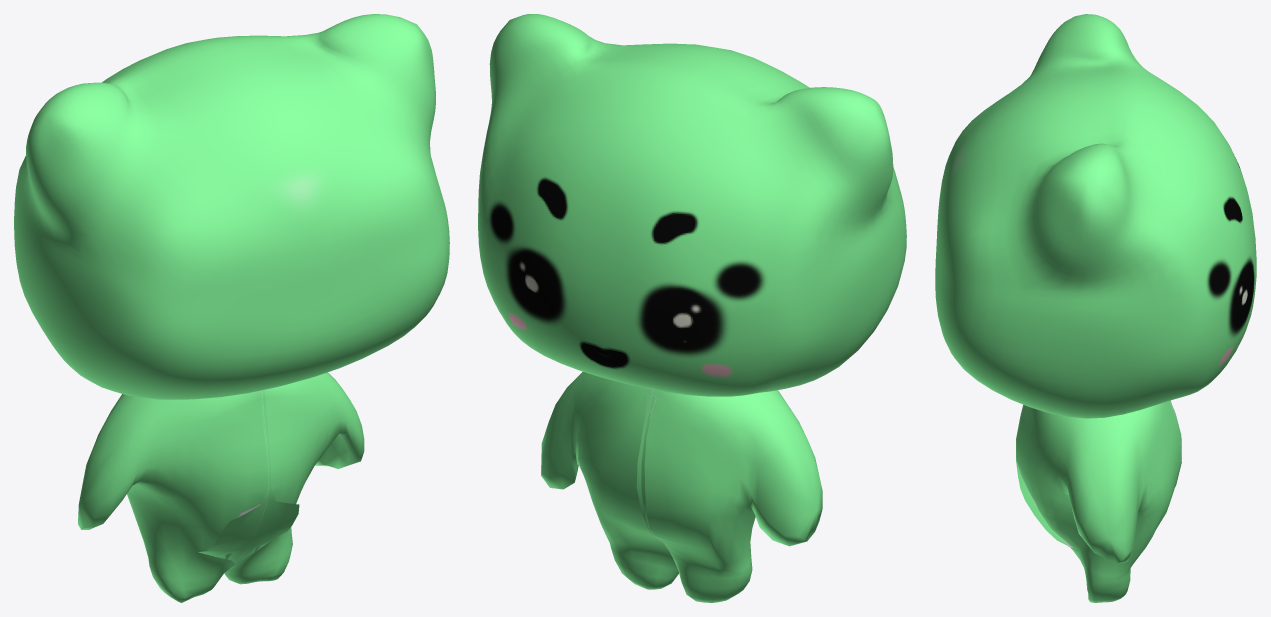
The model's file is Alien1.fbx.
The picture shows the model from 3 angles, left to right: view 1: azimuth 30°, elevation 25°; view 2: azimuth 150°, elevation 25°; view 3: azimuth 270°, elevation 25°; orthographic projection. The views are drawn at different scales.
Visible parts, largest first — view 1: Head, Body; view 2: Head, Body; view 3: Head, Body.
Boxes of the visible parts, x1=… form: Head: x1=14, y1=14, x2=449, y2=399; Body: x1=78, y1=372, x2=364, y2=602; Head: x1=478, y1=14, x2=906, y2=396; Body: x1=541, y1=372, x2=822, y2=602; Head: x1=935, y1=14, x2=1256, y2=418; Body: x1=1016, y1=400, x2=1181, y2=602.
Size of the model in its own units: 180 by 233 by 136.
2 materials, 2 textured.
